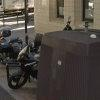Motorcycle: (3, 30, 39, 98)
